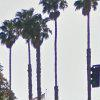Tree: (2, 0, 80, 55)
